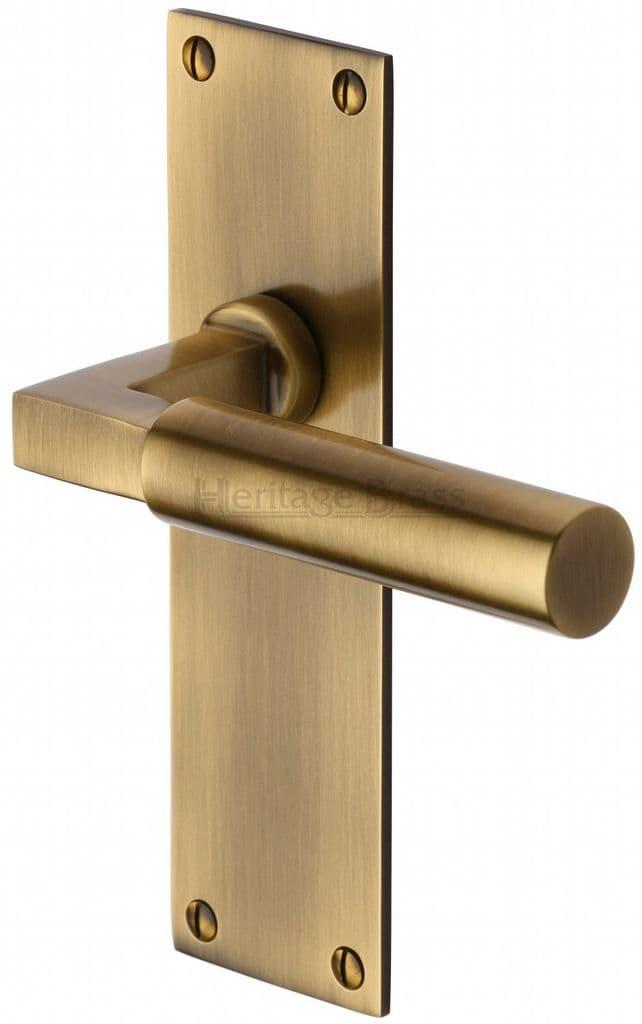doorhandle: (13, 280, 625, 676)
